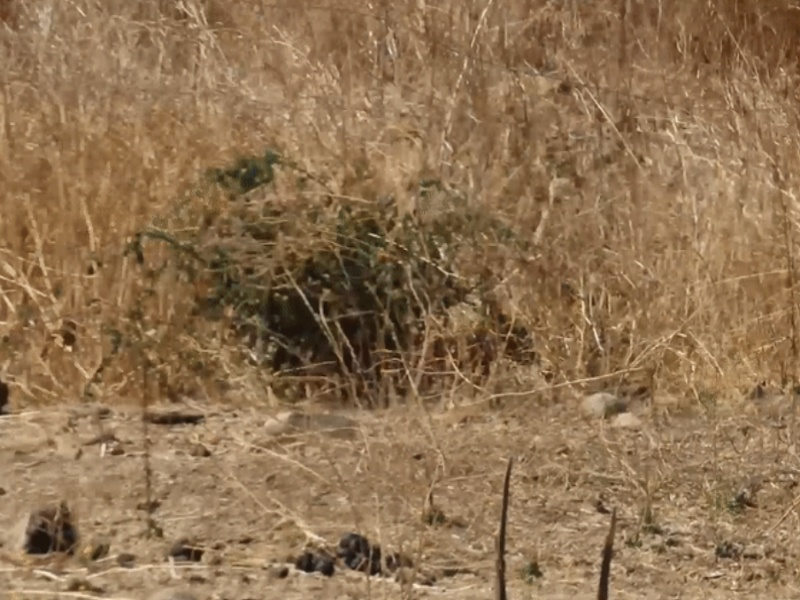dog: (371, 294, 538, 394)
